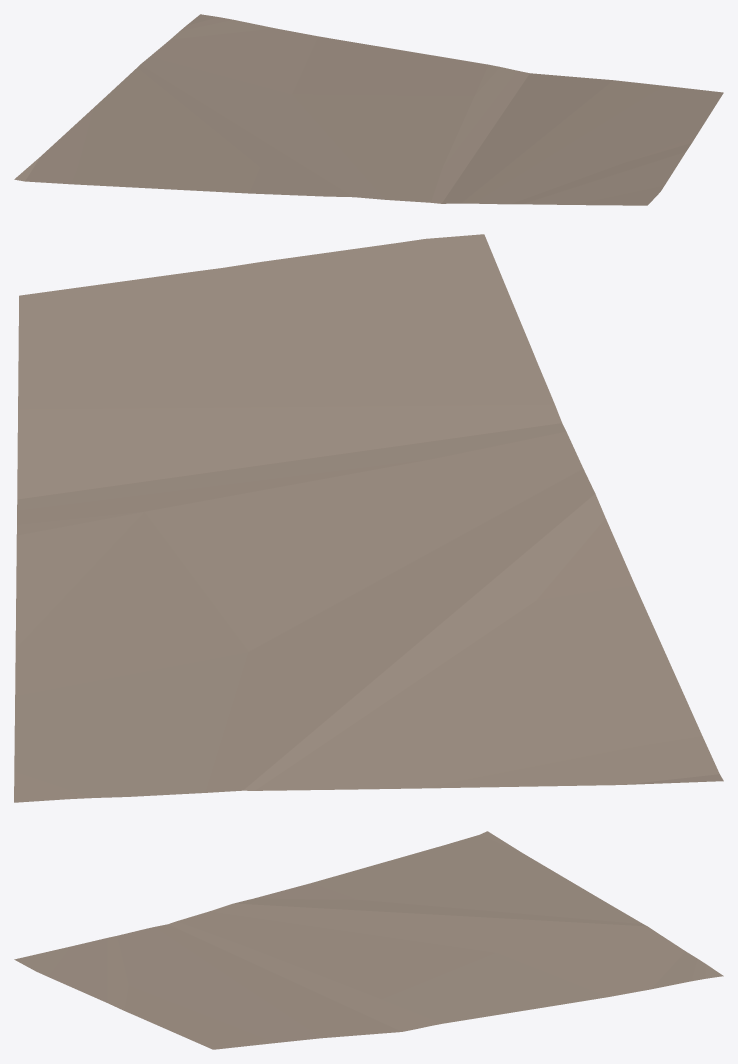
The model's file is farm_1_6_soil.glb.
3 renders of one model, top to bottom at view 1: azimuth 30°, elevation 25°; view 2: azimuth 150°, elevation 25°; view 3: azimuth 270°, elevation 25°, orthographic. The views are drawn at different scales.
Visible parts, largest first — view 1: geometry_0; view 2: geometry_0; view 3: geometry_0.
Part boxes in pixels (<box>): geometry_0: <box>14,14,723,205</box>; geometry_0: <box>14,234,723,802</box>; geometry_0: <box>14,831,723,1049</box>.
Bounding box in the file's own units: 85.16 × 8.32 × 94.98.
